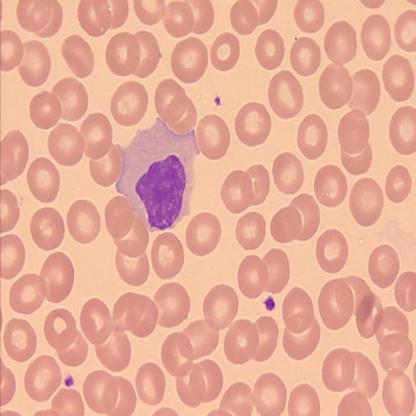Atypical lymphocyte: (112, 113, 203, 236)
